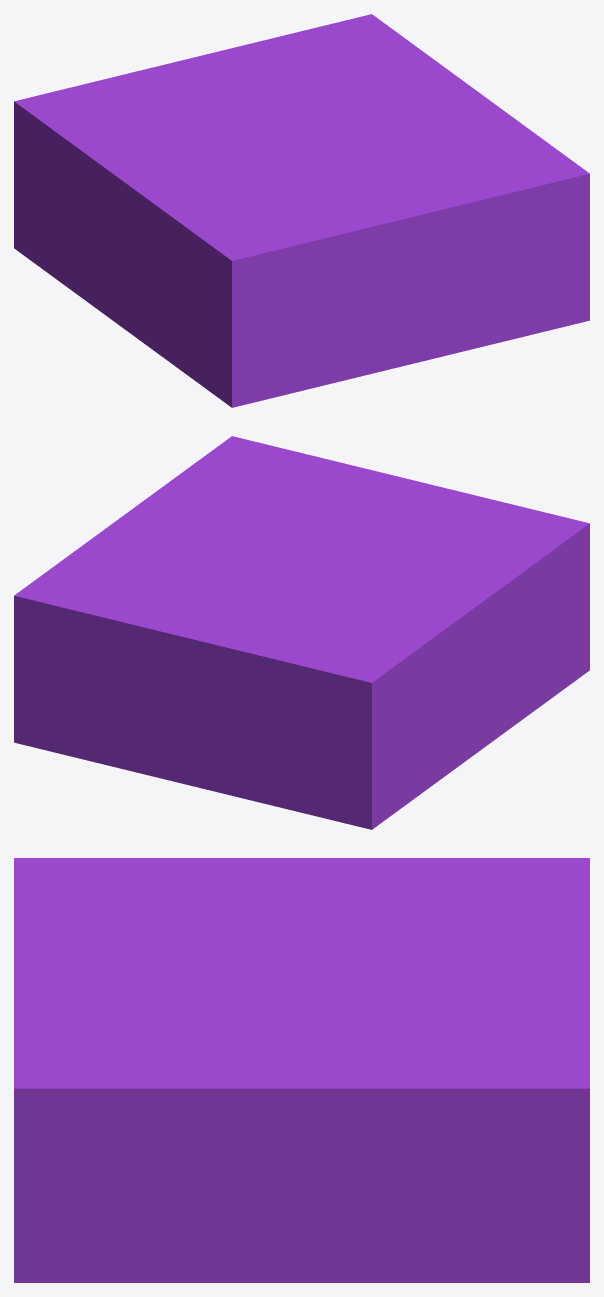
Rendered from ExhibitGlass.002_chunks.fbx.
3 renders of one model, top to bottom at view 1: azimuth 30°, elevation 25°; view 2: azimuth 150°, elevation 25°; view 3: azimuth 270°, elevation 25°, orthographic. The views are drawn at different scales.
Parts seen in each view (by area): view 1: ExhibitGlass.002_13, ExhibitGlass.002_6, ExhibitGlass.002_9, ExhibitGlass.002_8, ExhibitGlass.002_0, ExhibitGlass.002_12, ExhibitGlass.002_11, ExhibitGlass.002_1, ExhibitGlass.002_20, ExhibitGlass.002_4, ExhibitGlass.002_2, ExhibitGlass.002_7 (+4 smaller); view 2: ExhibitGlass.002_0, ExhibitGlass.002_9, ExhibitGlass.002_20, ExhibitGlass.002_13, ExhibitGlass.002_1, ExhibitGlass.002_11, ExhibitGlass.002_16, ExhibitGlass.002_6, ExhibitGlass.002_8, ExhibitGlass.002_21, ExhibitGlass.002_17, ExhibitGlass.002_12 (+5 smaller); view 3: ExhibitGlass.002_4, ExhibitGlass.002_1, ExhibitGlass.002_11, ExhibitGlass.002_12, ExhibitGlass.002_3, ExhibitGlass.002_13, ExhibitGlass.002_0, ExhibitGlass.002_8, ExhibitGlass.002_5, ExhibitGlass.002_9, ExhibitGlass.002_20, ExhibitGlass.002_18 (+3 smaller).
Boxes of the visible parts, <box> form: ExhibitGlass.002_13: <box>259,148,526,314</box>; ExhibitGlass.002_6: <box>129,224,362,407</box>; ExhibitGlass.002_9: <box>50,148,247,331</box>; ExhibitGlass.002_8: <box>159,165,403,328</box>; ExhibitGlass.002_0: <box>14,104,291,274</box>; ExhibitGlass.002_12: <box>449,113,589,313</box>; ExhibitGlass.002_11: <box>251,59,506,152</box>; ExhibitGlass.002_1: <box>279,14,432,120</box>; ExhibitGlass.002_20: <box>153,18,352,76</box>; ExhibitGlass.002_4: <box>511,245,589,337</box>; ExhibitGlass.002_2: <box>423,284,518,361</box>; ExhibitGlass.002_7: <box>361,299,432,375</box>; ExhibitGlass.002_0: <box>261,571,437,827</box>; ExhibitGlass.002_9: <box>361,565,521,802</box>; ExhibitGlass.002_20: <box>33,589,245,711</box>; ExhibitGlass.002_13: <box>250,451,491,556</box>; ExhibitGlass.002_1: <box>14,550,271,743</box>; ExhibitGlass.002_11: <box>76,497,330,577</box>; ExhibitGlass.002_16: <box>20,672,197,786</box>; ExhibitGlass.002_6: <box>487,534,589,745</box>; ExhibitGlass.002_8: <box>387,499,589,586</box>; ExhibitGlass.002_21: <box>240,641,375,728</box>; ExhibitGlass.002_17: <box>183,696,282,784</box>; ExhibitGlass.002_12: <box>149,436,294,500</box>; ExhibitGlass.002_4: <box>14,1133,331,1282</box>; ExhibitGlass.002_1: <box>354,979,589,1282</box>; ExhibitGlass.002_11: <box>177,948,427,1132</box>; ExhibitGlass.002_12: <box>14,1037,265,1183</box>; ExhibitGlass.002_3: <box>280,1155,586,1282</box>; ExhibitGlass.002_13: <box>14,921,248,1048</box>; ExhibitGlass.002_0: <box>321,858,577,979</box>; ExhibitGlass.002_8: <box>14,858,260,928</box>; ExhibitGlass.002_5: <box>263,1101,469,1187</box>; ExhibitGlass.002_9: <box>205,858,416,930</box>; ExhibitGlass.002_20: <box>475,947,589,1076</box>; ExhibitGlass.002_18: <box>461,905,589,982</box>.
Bounding box in the file's own units: 681 × 267 × 719.
